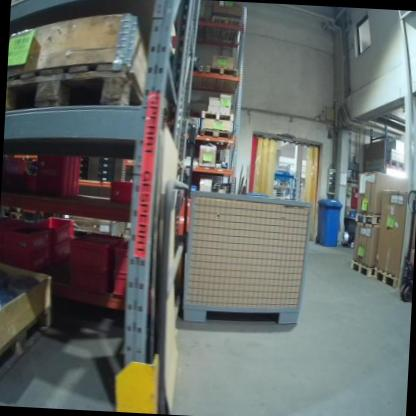pallet: (5, 53, 147, 119), (0, 305, 51, 386), (209, 12, 242, 47), (371, 267, 399, 290), (204, 63, 238, 78), (349, 258, 373, 278), (353, 211, 381, 227)
pallet_truck: (174, 120, 199, 240), (398, 184, 416, 303)
small_load_carrier: (36, 151, 83, 199), (66, 230, 123, 269), (0, 237, 54, 274), (33, 213, 73, 244), (2, 219, 45, 247), (63, 263, 105, 289), (2, 169, 36, 196), (107, 178, 136, 205), (109, 233, 129, 272), (52, 238, 75, 268), (110, 271, 128, 297)
stillage: (178, 185, 317, 333)
